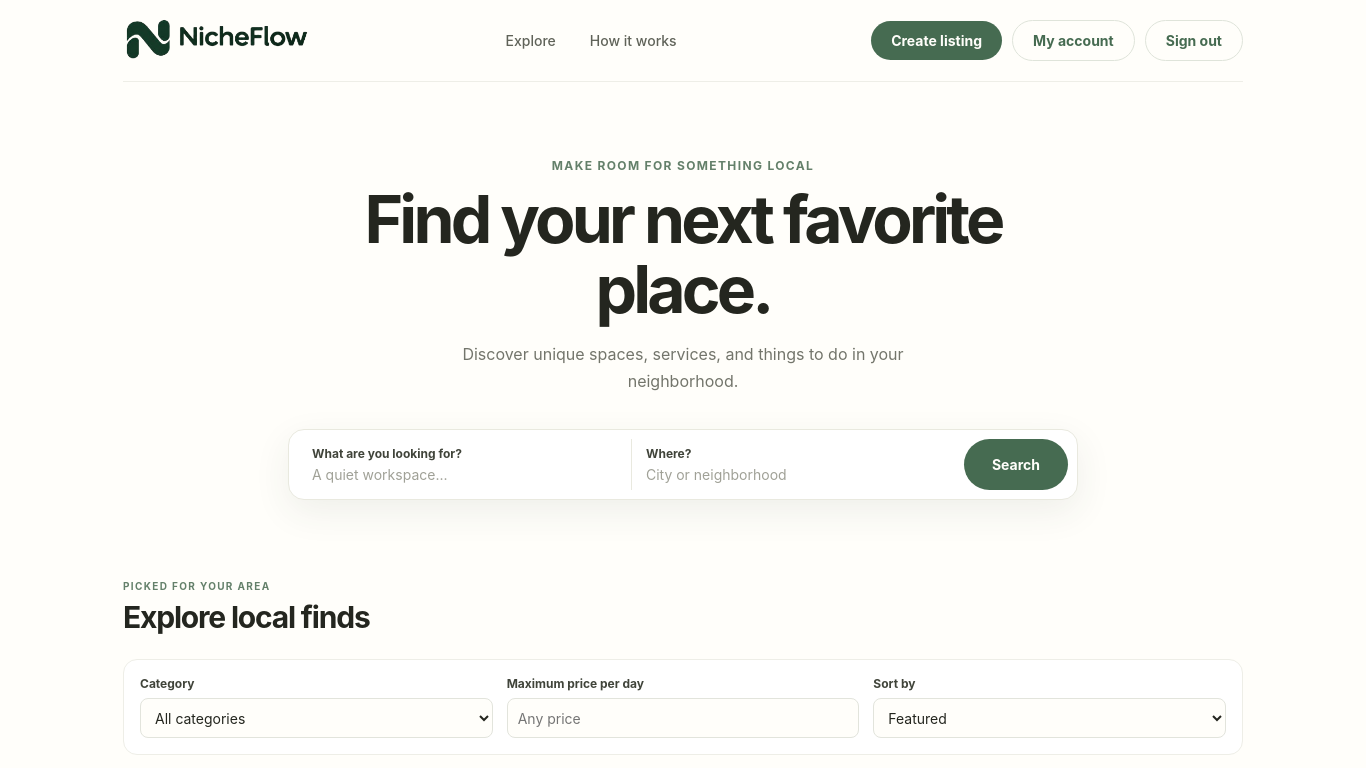
Test: NicheFlow landing page › shows a supplier their listings and bookings sections
Click the link "My account": (1073, 40) [1012,20,1135,61]
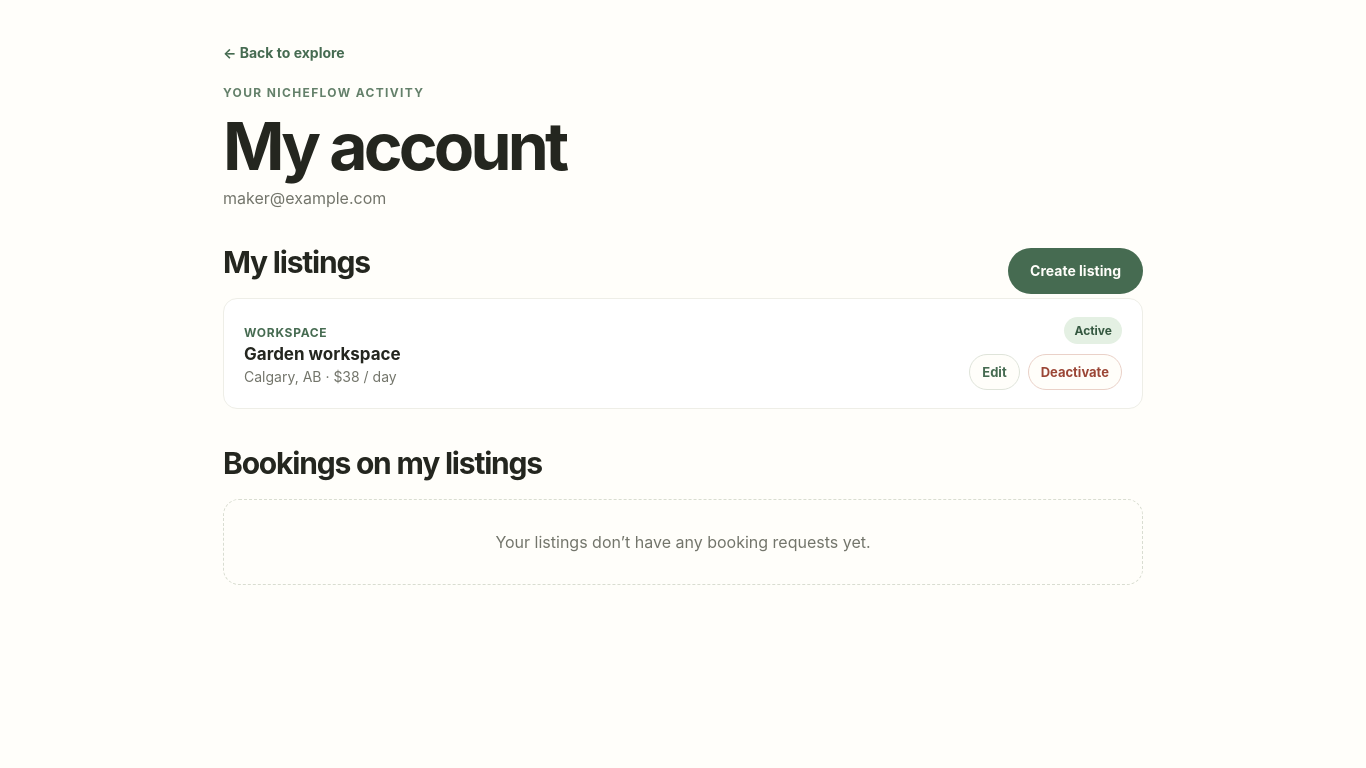
Check: the heading "My listings" is shown, box [223,244,370,280]
Check: the heading "Bookings on my listings" is shown, box [223,445,542,481]
Check: the heading "Garden workspace" is shown, box [244,344,401,364]
